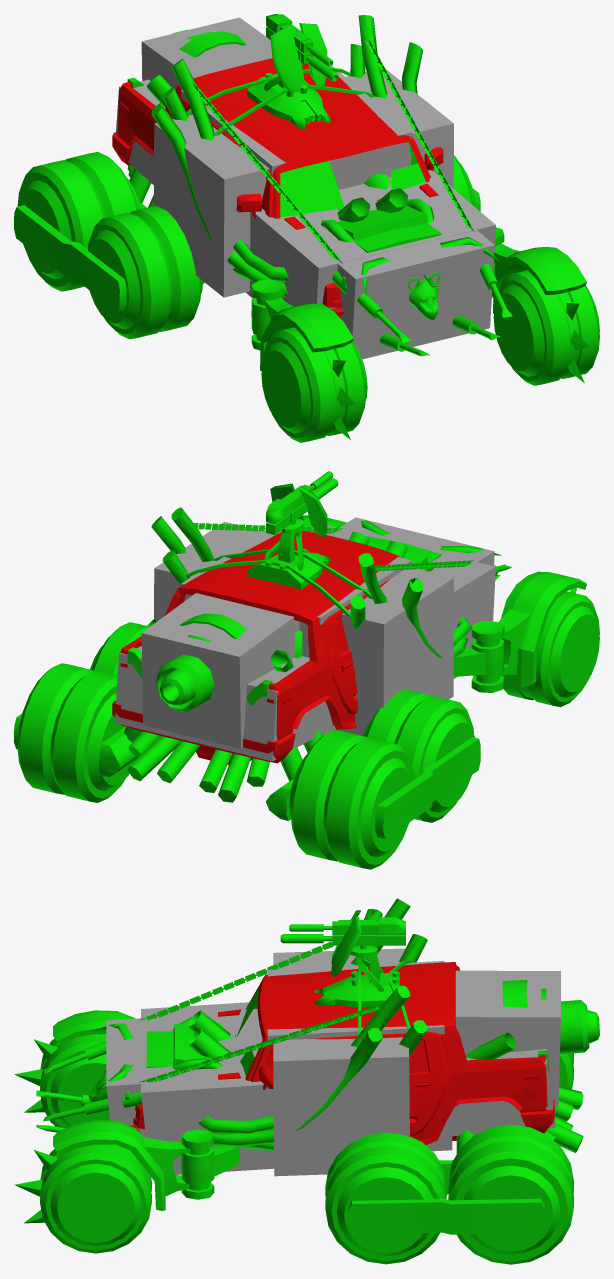
File: mh_AntonioCircelli_ThePursuer_002.fbx
3 views of the same model, one above another, from view 1: azimuth 30°, elevation 25°; view 2: azimuth 150°, elevation 25°; view 3: azimuth 270°, elevation 25° (orthographic). The views are drawn at different scales.
Parts seen in each view (by area): view 1: polySurface81, CarBody, pCube6, pCube2, Wheel_RR, pCube8, polySurface6, Eh, FWheel_RR, pCube4, pCube1, Gun (+4 smaller); view 2: polySurface81, CarBody, pCube6, pCube4, FWheel_RR, FWheel_RL, Wheel_RR, polySurface6, pCube3, pCube8, Gun, pCube2 (+2 smaller); view 3: polySurface81, CarBody, pCube6, FWheel_RL, pCube8, Wheel_RL, Eh, pCube4, polySurface6, Gun, pCube2, pCube3 (+4 smaller).
Part boxes in pixels (bbox=[...]): polySurface81: bbox=[14, 15, 586, 370]; CarBody: bbox=[112, 58, 443, 319]; pCube6: bbox=[154, 69, 453, 297]; pCube2: bbox=[335, 230, 494, 359]; Wheel_RR: bbox=[88, 206, 203, 339]; pCube8: bbox=[246, 170, 495, 308]; polySurface6: bbox=[261, 327, 367, 442]; Eh: bbox=[493, 270, 599, 385]; FWheel_RR: bbox=[17, 152, 140, 291]; pCube4: bbox=[141, 17, 272, 89]; pCube1: bbox=[180, 65, 411, 189]; Gun: bbox=[266, 14, 338, 92]; polySurface81: bbox=[14, 507, 586, 838]; CarBody: bbox=[112, 531, 401, 764]; pCube6: bbox=[154, 521, 453, 735]; pCube4: bbox=[141, 593, 299, 748]; FWheel_RR: bbox=[289, 730, 414, 869]; FWheel_RL: bbox=[17, 663, 135, 802]; Wheel_RR: bbox=[363, 689, 474, 822]; polySurface6: bbox=[503, 591, 599, 706]; pCube3: bbox=[114, 646, 334, 761]; pCube8: bbox=[311, 525, 495, 678]; Gun: bbox=[266, 471, 338, 537]; pCube2: bbox=[339, 517, 494, 565]; polySurface81: bbox=[36, 898, 599, 1234]; CarBody: bbox=[130, 962, 554, 1145]; pCube6: bbox=[273, 948, 409, 1176]; FWheel_RL: bbox=[448, 1124, 573, 1264]; pCube8: bbox=[141, 1002, 274, 1174]; Wheel_RL: bbox=[325, 1132, 446, 1264]; Eh: bbox=[40, 1144, 151, 1253]; pCube4: bbox=[455, 970, 560, 1107]; polySurface6: bbox=[40, 1034, 109, 1128]; Gun: bbox=[280, 910, 405, 976]; pCube2: bbox=[106, 1018, 145, 1137]; pCube3: bbox=[439, 1049, 555, 1137].
Size of what is drawn, in the model's own units: 461 by 338 by 654.
